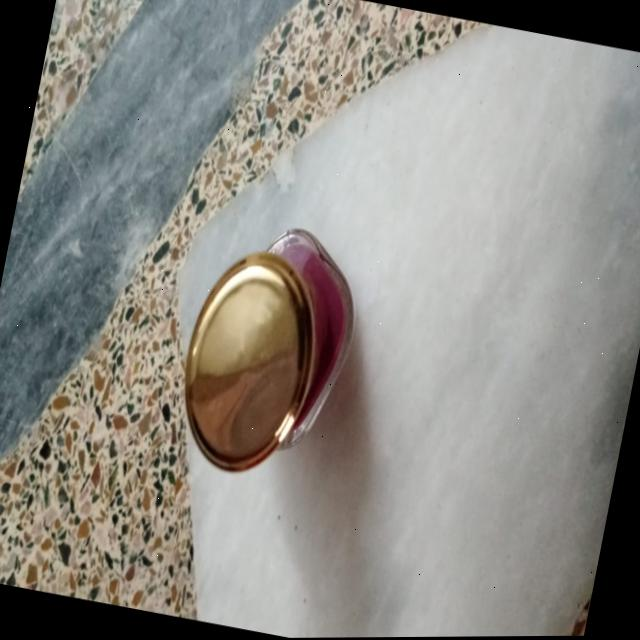nail polish: (122, 163, 406, 568)
